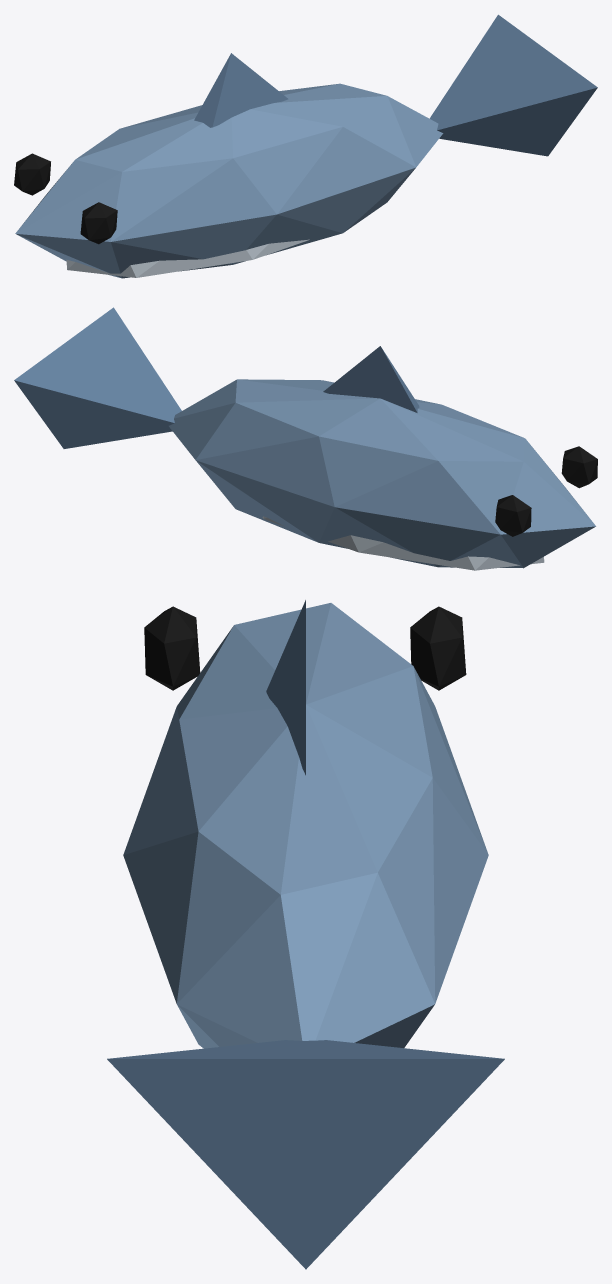
Rendered from drop_fish_raw.glb.
The picture shows the model from 3 angles, top to bottom: view 1: azimuth 30°, elevation 25°; view 2: azimuth 150°, elevation 25°; view 3: azimuth 270°, elevation 25°; orthographic projection. The views are drawn at different scales.
Visible parts, largest first — view 1: drop_fish_raw; view 2: drop_fish_raw; view 3: drop_fish_raw.
Boxes of the visible parts, x1,y1,x2,y2 form: drop_fish_raw: (14, 14, 597, 278); drop_fish_raw: (14, 307, 597, 570); drop_fish_raw: (107, 600, 504, 1269).
Size of the model in its own units: 0.37 by 0.135 by 0.12.
